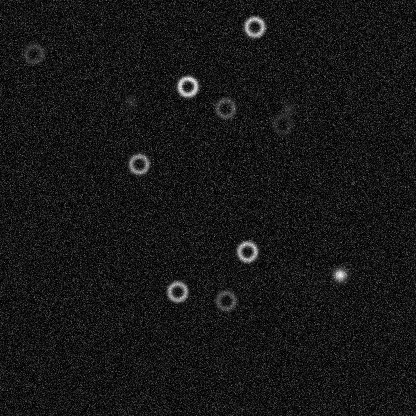Ring: (175, 74, 199, 98), (126, 152, 150, 176), (242, 14, 266, 38), (235, 239, 259, 263), (165, 279, 189, 303), (213, 288, 237, 312), (21, 41, 45, 65), (213, 96, 237, 120), (270, 112, 294, 136)
Spot: (122, 93, 138, 109), (280, 100, 296, 116), (331, 266, 347, 282)
